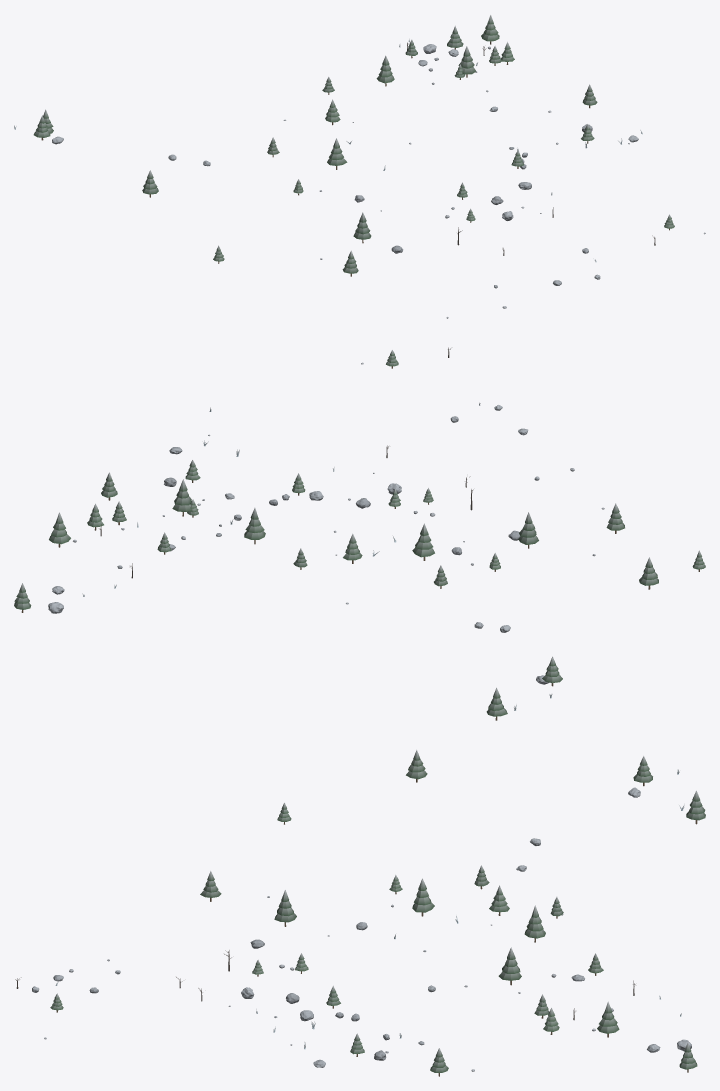
Rendered from frost_land_scatter_c19_09.glb.
The picture shows the model from 3 angles, top to bottom: view 1: azimuth 30°, elevation 25°; view 2: azimuth 150°, elevation 25°; view 3: azimuth 270°, elevation 25°; orthographic projection. The views are drawn at different scales.
Visible parts, largest first — view 1: frost_land_scatter_c19_09; view 2: frost_land_scatter_c19_09; view 3: frost_land_scatter_c19_09.
Part boxes in pixels (x1=…): frost_land_scatter_c19_09: x1=14, y1=15, x2=705, y2=318; frost_land_scatter_c19_09: x1=14, y1=347, x2=705, y2=720; frost_land_scatter_c19_09: x1=15, y1=749, x2=705, y2=1076.
Size of the model in its own units: 246 by 50.74 by 256.
